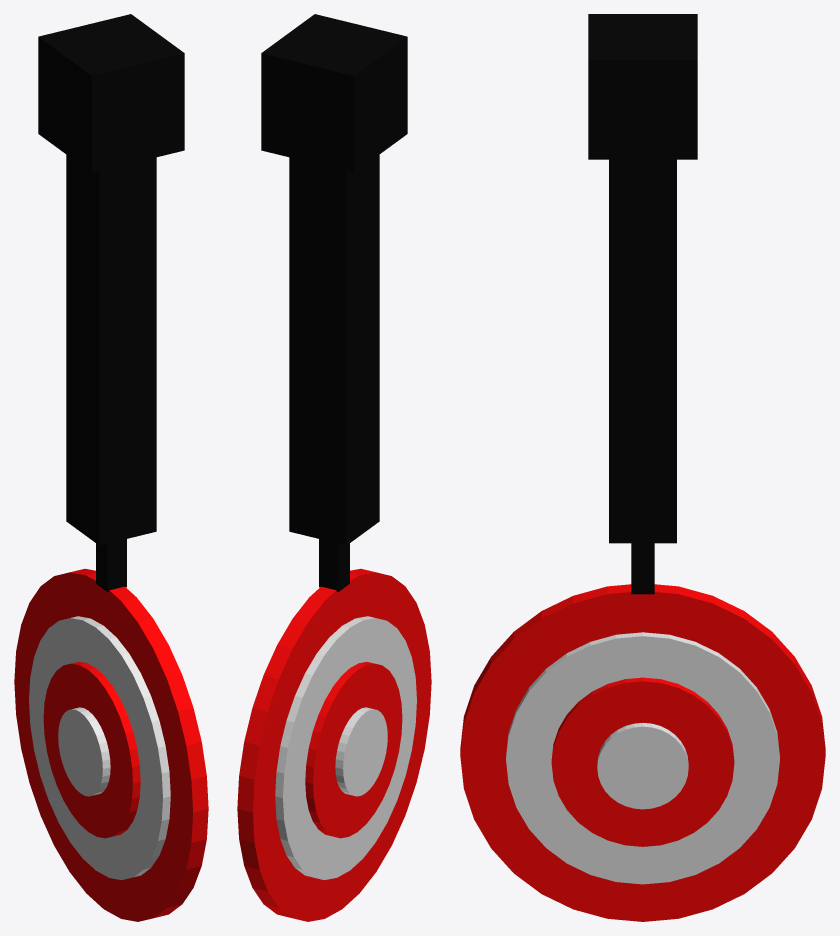
Rendered from Target.fbx.
3 views of the same model, side by side, from view 1: azimuth 30°, elevation 25°; view 2: azimuth 150°, elevation 25°; view 3: azimuth 270°, elevation 25° (orthographic). The views are drawn at different scales.
Parts seen in each view (by area): view 1: Cube, Cylinder, Cylinder.001, Cylinder.002, Cylinder.003; view 2: Cube, Cylinder, Cylinder.001, Cylinder.002, Cylinder.003; view 3: Cylinder, Cube, Cylinder.001, Cylinder.002, Cylinder.003.
Part boxes in pixels (x1=…): Cube: x1=38, y1=14, x2=184, y2=591; Cylinder: x1=14, y1=568, x2=208, y2=921; Cylinder.001: x1=29, y1=616, x2=170, y2=879; Cylinder.002: x1=43, y1=662, x2=140, y2=838; Cylinder.003: x1=58, y1=707, x2=110, y2=796; Cube: x1=261, y1=14, x2=407, y2=591; Cylinder: x1=237, y1=568, x2=431, y2=921; Cylinder.001: x1=275, y1=616, x2=416, y2=879; Cylinder.002: x1=305, y1=662, x2=402, y2=838; Cylinder.003: x1=335, y1=707, x2=387, y2=796; Cylinder: x1=460, y1=584, x2=825, y2=921; Cube: x1=588, y1=14, x2=697, y2=594; Cylinder.001: x1=506, y1=632, x2=779, y2=884; Cylinder.002: x1=551, y1=677, x2=734, y2=846; Cylinder.003: x1=597, y1=723, x2=688, y2=809.
Size of the model in its own units: 60 by 532 by 200.
